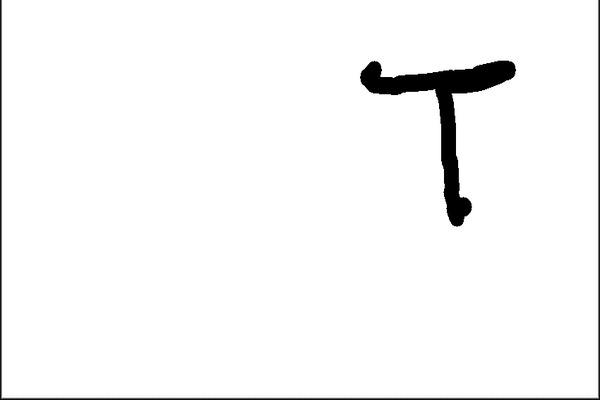T: (357, 51, 534, 231)
